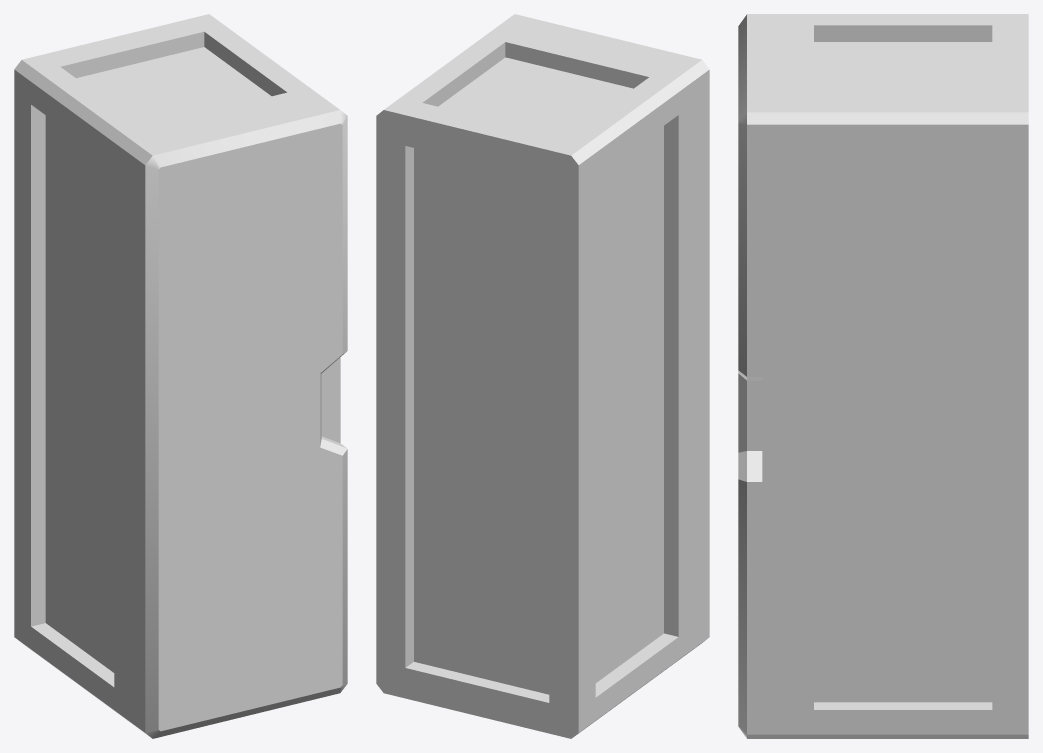
Rendered from Cont_Locker_Static.fbx.
3 views of the same model, side by side, from view 1: azimuth 30°, elevation 25°; view 2: azimuth 150°, elevation 25°; view 3: azimuth 270°, elevation 25° (orthographic). The views are drawn at different scales.
Parts seen in each view (by area): view 1: Cont_Locker_Static; view 2: Cont_Locker_Static; view 3: Cont_Locker_Static.
Boxes of the visible parts, bbox=[...] form: Cont_Locker_Static: bbox=[14, 14, 347, 738]; Cont_Locker_Static: bbox=[376, 14, 709, 738]; Cont_Locker_Static: bbox=[738, 14, 1028, 738].
Bounding box in the file's own units: 0.7266 × 2 × 0.8404.
